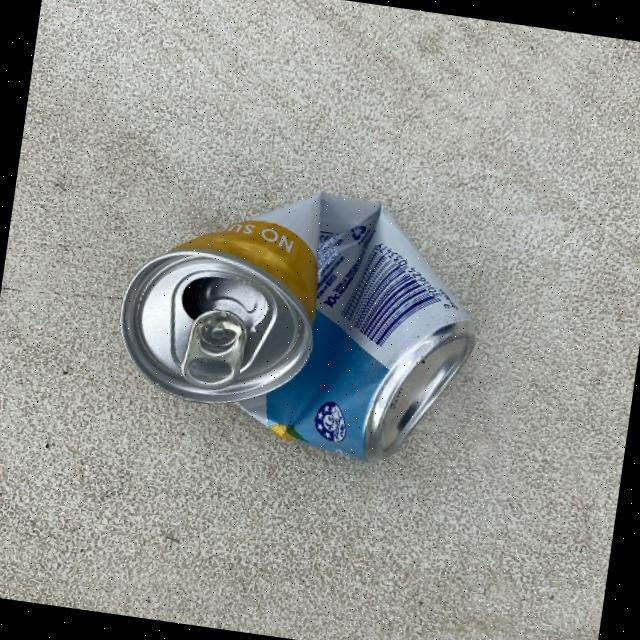metal: (104, 163, 493, 475)
